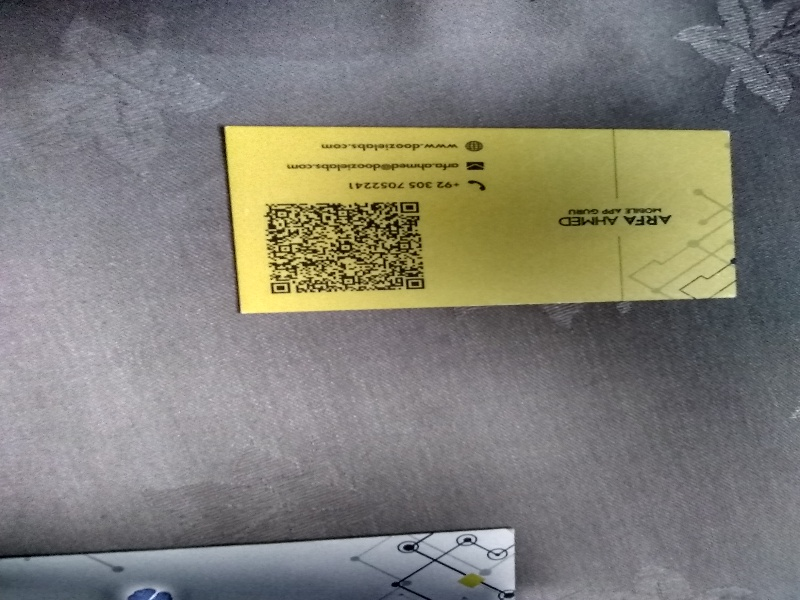front: (219, 120, 748, 318)
